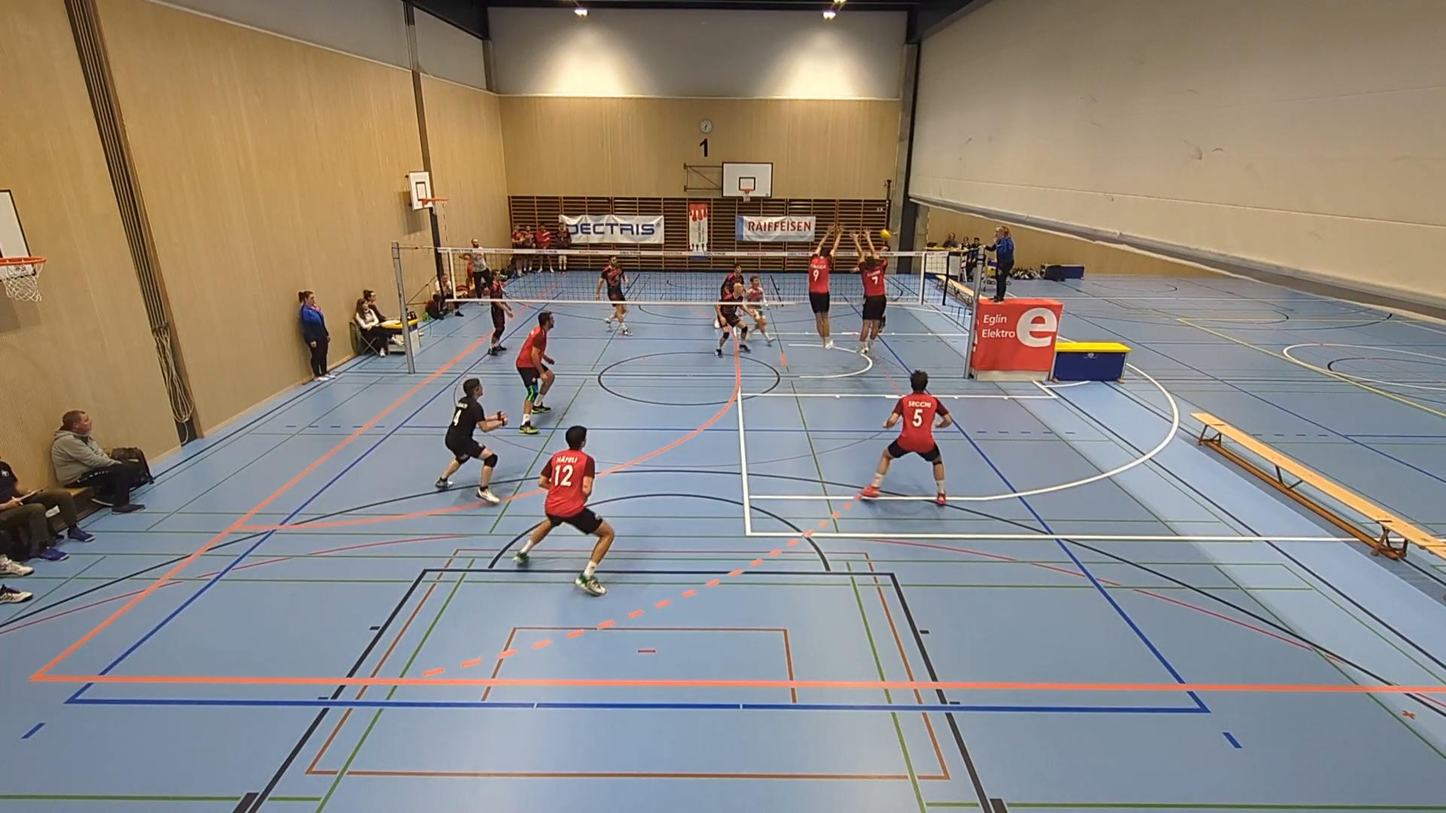Attack: (871, 227, 894, 354)
Block: (854, 226, 897, 353), (801, 224, 842, 347)
Player: (514, 425, 614, 595), (861, 370, 952, 505), (435, 378, 507, 504), (516, 311, 554, 434), (479, 269, 513, 355), (595, 257, 630, 336), (715, 282, 750, 356), (744, 275, 772, 345), (720, 262, 743, 300)
ball: (879, 226, 894, 242)
